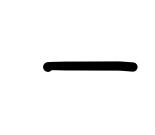minus: (43, 59, 138, 75)
